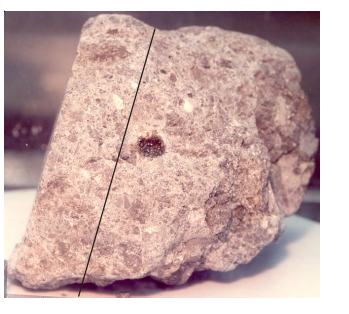Breccia: (64, 28, 278, 279), (223, 36, 309, 217), (8, 246, 247, 282)
